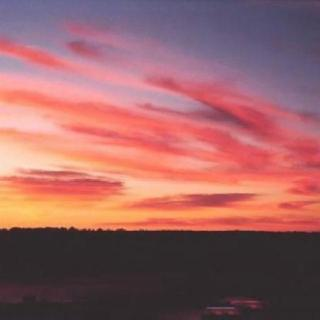Cirrus: (0, 0, 320, 236)
